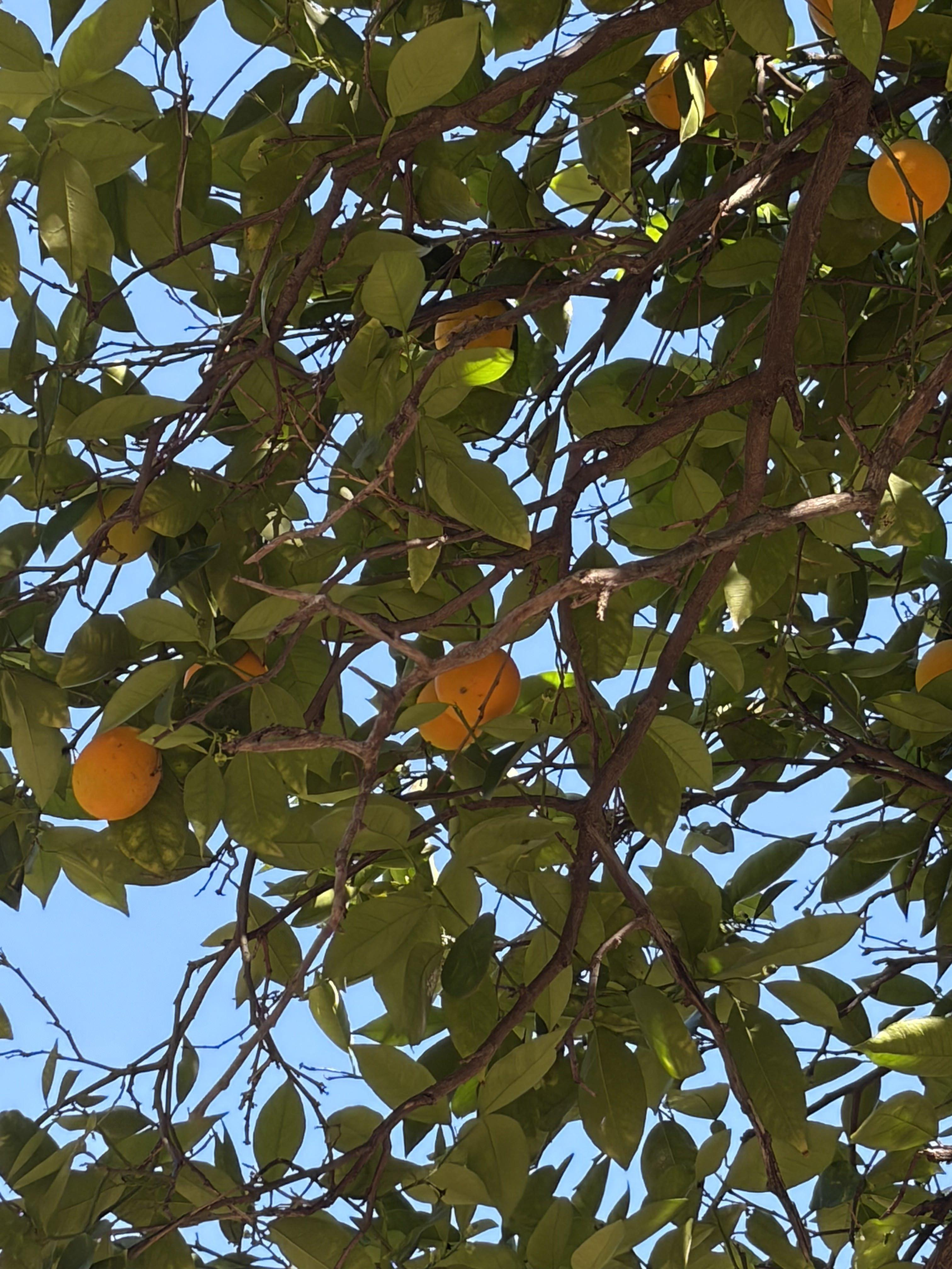orange: (72, 726, 162, 822), (72, 475, 159, 564), (435, 641, 520, 727), (868, 138, 952, 224), (644, 51, 718, 130), (417, 678, 483, 750), (434, 300, 513, 354), (184, 648, 266, 688), (827, 0, 918, 33), (915, 639, 952, 691), (809, 0, 835, 37)
